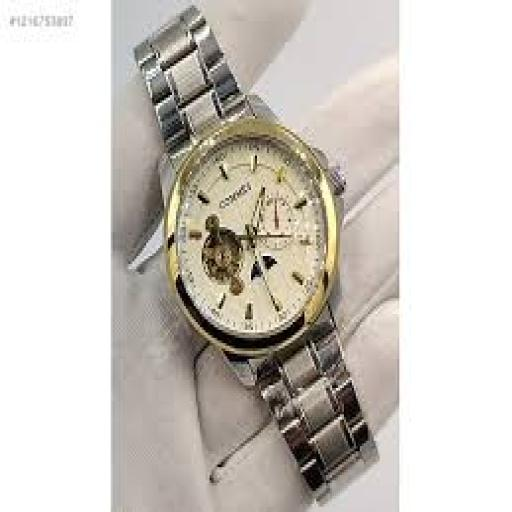KolSaati: (132, 10, 392, 504)
